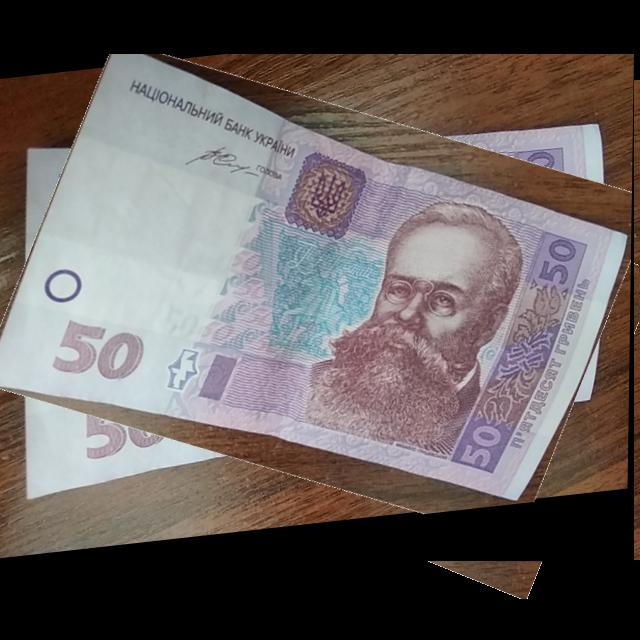50uah: (0, 54, 632, 517)
